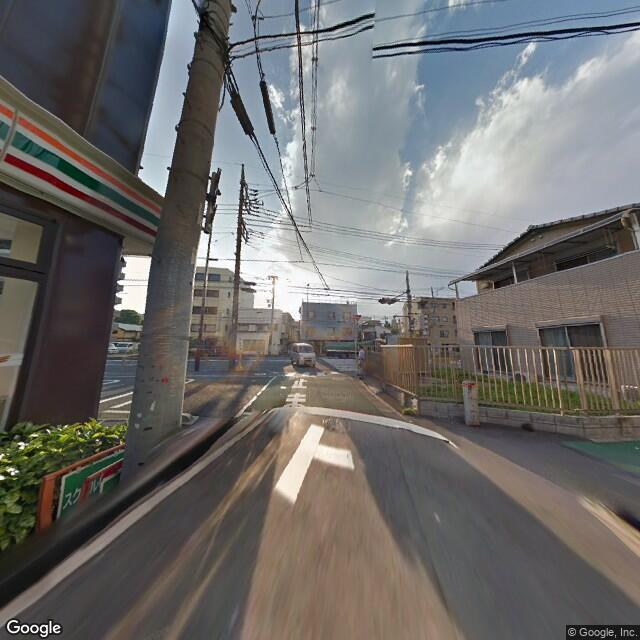7-eleven: (1, 100, 162, 247)
